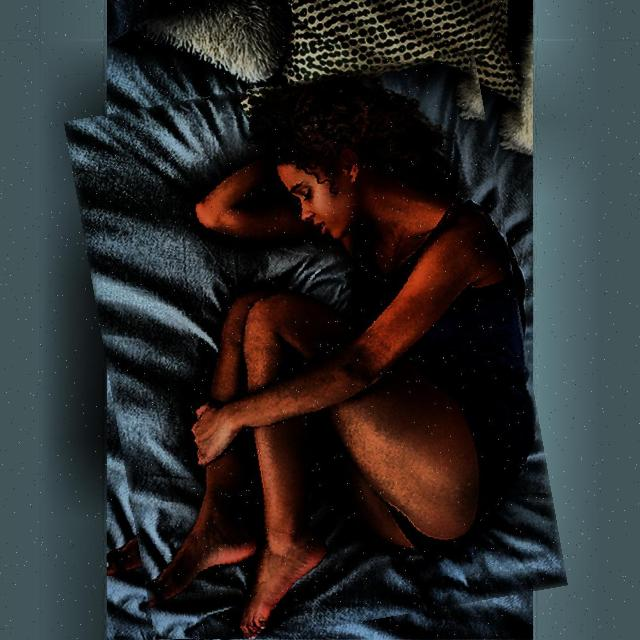Not_Supine: (147, 74, 536, 640)
